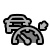ACC_AKTIV: (2, 11, 50, 48)
